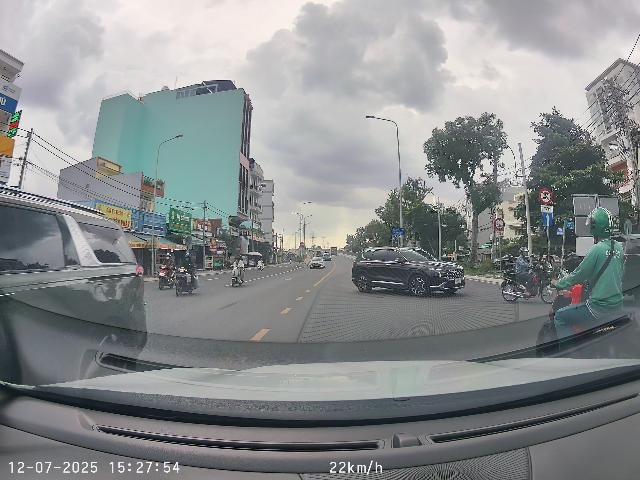102-cam-di-nguoc-chieu: (300, 242, 304, 247)
107-cam-oto-khach-va-oto-tai: (539, 188, 553, 204)
